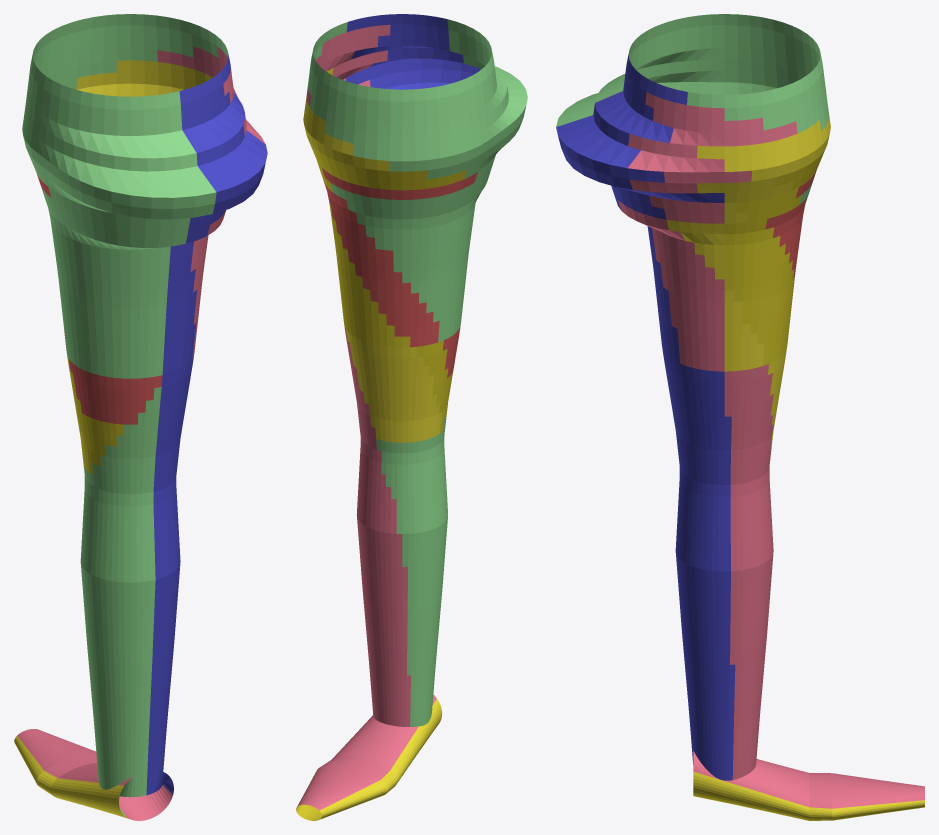
The model's file is one_leg_ruku.obj.
3 views of the same model, side by side, from view 1: azimuth 30°, elevation 25°; view 2: azimuth 150°, elevation 25°; view 3: azimuth 270°, elevation 25° (orthographic). The views are drawn at different scales.
Parts seen in each view (by area): view 1: Territory_anterior, Territory_posterior, Territory_S1, Territory_L5, Territory_S2, Territory_L3, Territory_L4; view 2: Territory_anterior, Territory_S1, Territory_L5, Territory_L3, Territory_L4, Territory_S2, Territory_posterior; view 3: Territory_S1, Territory_S2, Territory_anterior, Territory_L5, Territory_posterior, Territory_L4, Territory_L3.
Part boxes in pixels (bbox=[...]): Territory_anterior: bbox=[22, 14, 228, 816]; Territory_posterior: bbox=[146, 81, 262, 794]; Territory_S1: bbox=[17, 46, 265, 820]; Territory_L5: bbox=[14, 60, 212, 818]; Territory_S2: bbox=[163, 54, 267, 794]; Territory_L3: bbox=[36, 173, 162, 424]; Territory_L4: bbox=[32, 163, 123, 474]; Territory_anterior: bbox=[308, 19, 527, 726]; Territory_S1: bbox=[297, 24, 436, 810]; Territory_L5: bbox=[296, 68, 442, 820]; Territory_L3: bbox=[322, 168, 477, 378]; Territory_L4: bbox=[296, 137, 467, 820]; Territory_S2: bbox=[345, 14, 449, 88]; Territory_posterior: bbox=[385, 14, 480, 89]; Territory_S1: bbox=[618, 92, 924, 808]; Territory_S2: bbox=[566, 70, 735, 780]; Territory_anterior: bbox=[556, 14, 829, 466]; Territory_L5: bbox=[666, 116, 924, 818]; Territory_posterior: bbox=[556, 55, 712, 774]; Territory_L4: bbox=[693, 148, 924, 820]; Territory_L3: bbox=[765, 170, 816, 285].
Bounding box in the file's own units: 0.2397 × 0.94 × 0.4144.
